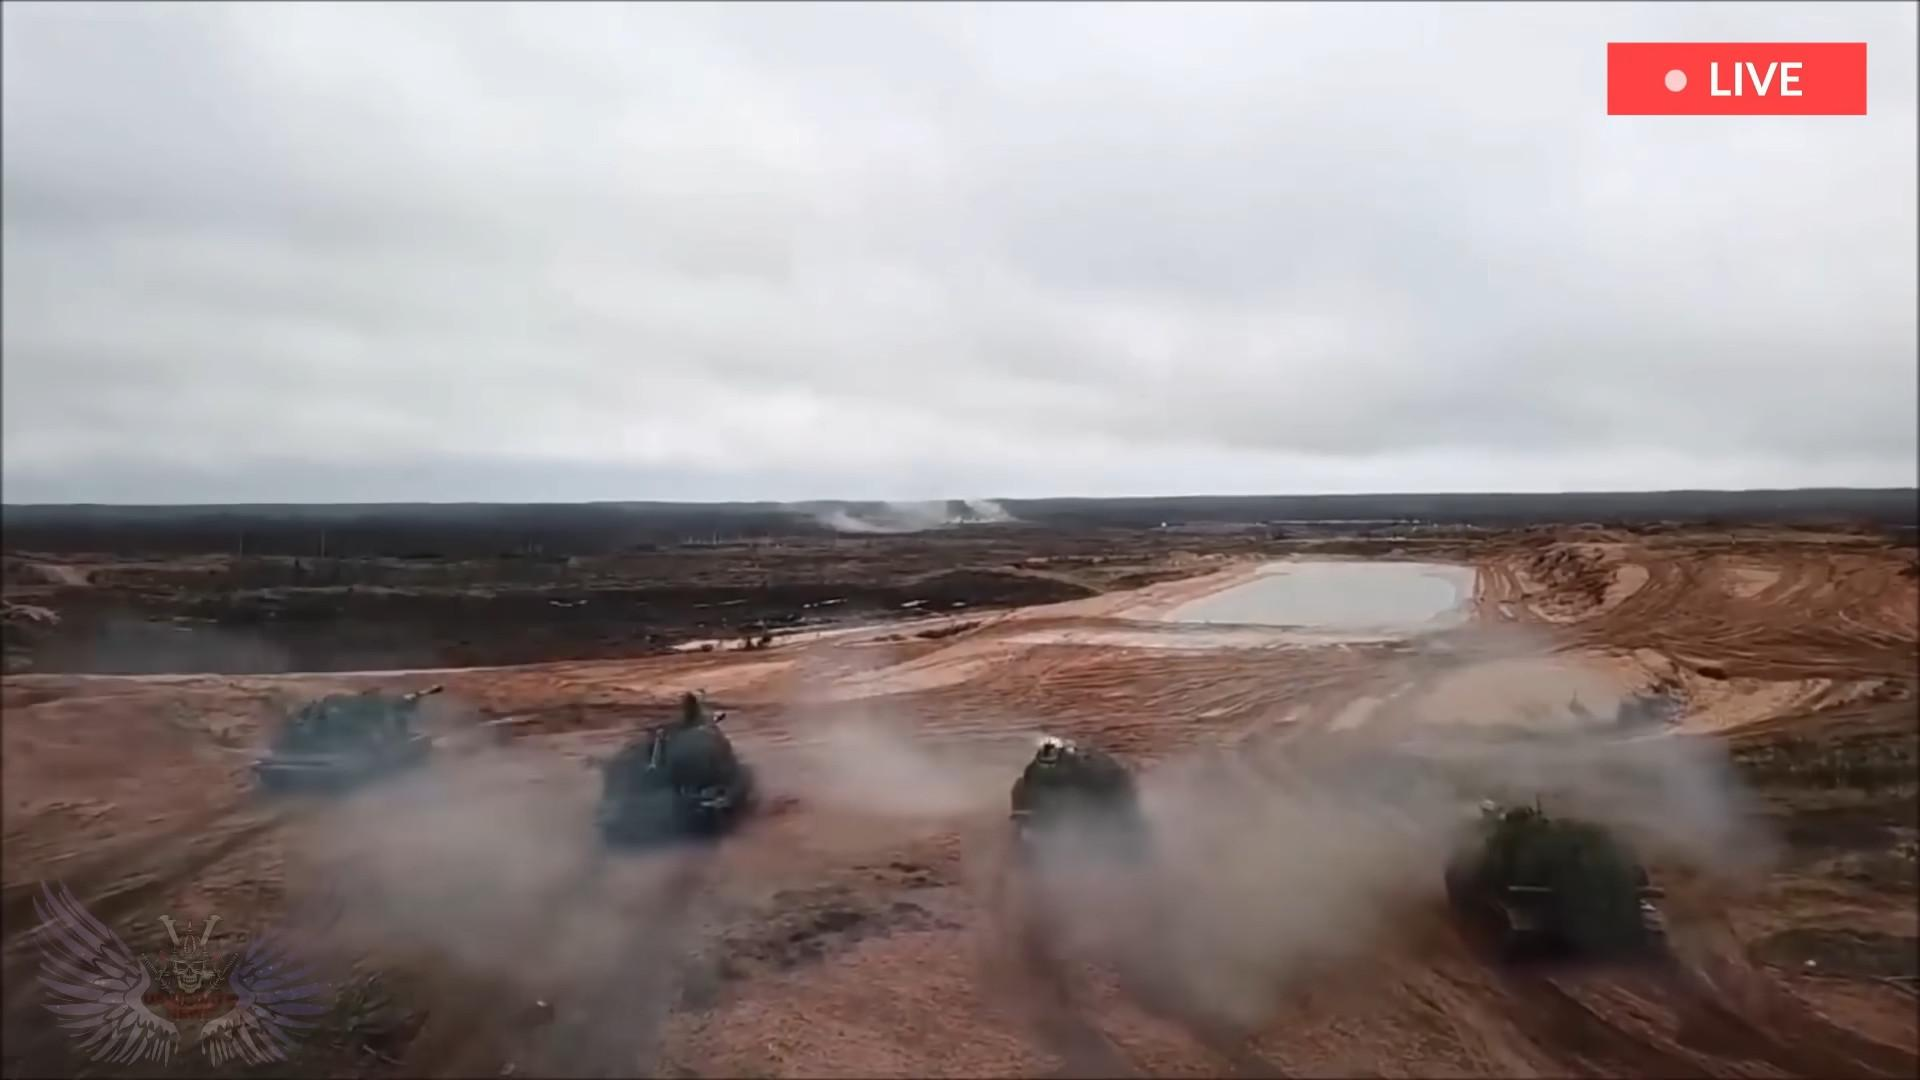tank: (1445, 800, 1668, 956), (245, 683, 443, 790)
